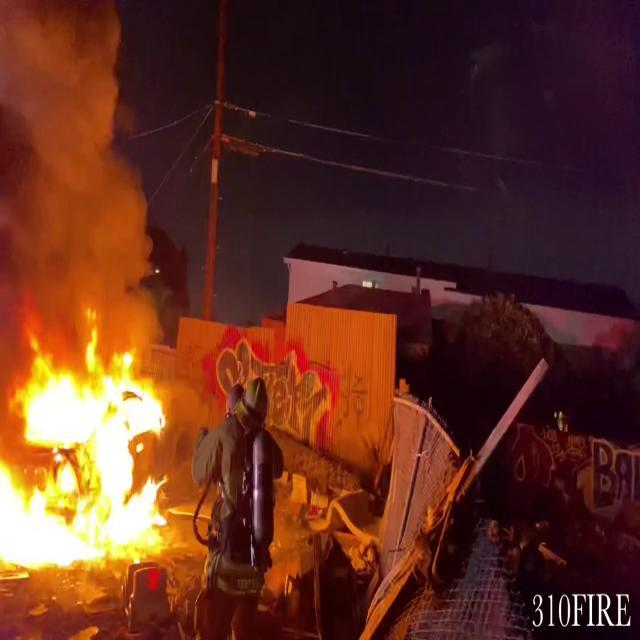Fire: (0, 314, 189, 571)
Smoke: (0, 0, 164, 308)
